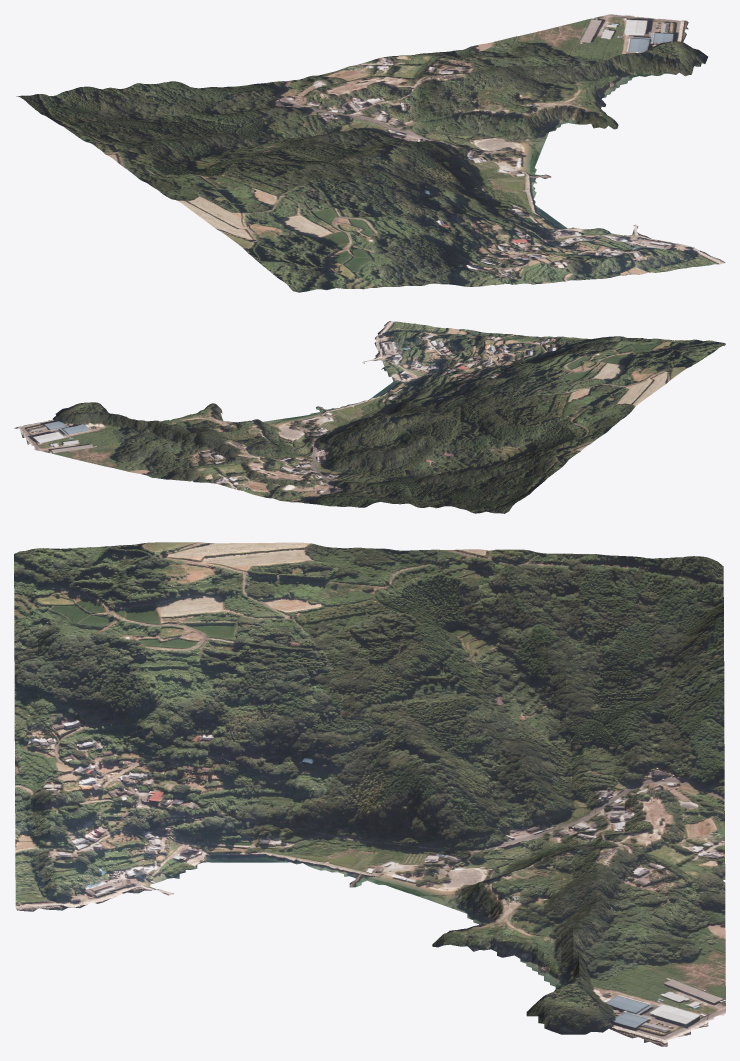
The model's file is 502906_dem_6697_op.fbx.
The picture shows the model from 3 angles, top to bottom: view 1: azimuth 30°, elevation 25°; view 2: azimuth 150°, elevation 25°; view 3: azimuth 270°, elevation 25°; orthographic projection. The views are drawn at different scales.
Parts seen in each view (by area): view 1: dem_69422ceb-b1a2-4ca1-ab93-ae0a9400fd1c, dem_175857bd-4d3a-4eba-b4c7-1195c68dc206, dem_1d258360-1987-4e4c-a80d-fbe0684942fe, dem_5aabbc97-589c-4c59-a3f3-a73ad3466e6e; view 2: dem_69422ceb-b1a2-4ca1-ab93-ae0a9400fd1c, dem_175857bd-4d3a-4eba-b4c7-1195c68dc206, dem_1d258360-1987-4e4c-a80d-fbe0684942fe, dem_5aabbc97-589c-4c59-a3f3-a73ad3466e6e; view 3: dem_69422ceb-b1a2-4ca1-ab93-ae0a9400fd1c, dem_175857bd-4d3a-4eba-b4c7-1195c68dc206, dem_1d258360-1987-4e4c-a80d-fbe0684942fe, dem_5aabbc97-589c-4c59-a3f3-a73ad3466e6e.
Part boxes in pixels (<box>): dem_69422ceb-b1a2-4ca1-ab93-ae0a9400fd1c: <box>22,56,697,292</box>; dem_175857bd-4d3a-4eba-b4c7-1195c68dc206: <box>424,17,725,266</box>; dem_1d258360-1987-4e4c-a80d-fbe0684942fe: <box>16,55,423,106</box>; dem_5aabbc97-589c-4c59-a3f3-a73ad3466e6e: <box>415,14,642,56</box>; dem_69422ceb-b1a2-4ca1-ab93-ae0a9400fd1c: <box>200,323,725,509</box>; dem_175857bd-4d3a-4eba-b4c7-1195c68dc206: <box>14,321,411,471</box>; dem_1d258360-1987-4e4c-a80d-fbe0684942fe: <box>192,471,514,513</box>; dem_5aabbc97-589c-4c59-a3f3-a73ad3466e6e: <box>26,441,199,481</box>; dem_69422ceb-b1a2-4ca1-ab93-ae0a9400fd1c: <box>14,542,698,894</box>; dem_175857bd-4d3a-4eba-b4c7-1195c68dc206: <box>15,862,699,1046</box>; dem_1d258360-1987-4e4c-a80d-fbe0684942fe: <box>697,556,725,880</box>; dem_5aabbc97-589c-4c59-a3f3-a73ad3466e6e: <box>699,873,725,1027</box>.
Bounding box in the file's own units: 993 × 123 × 748.
